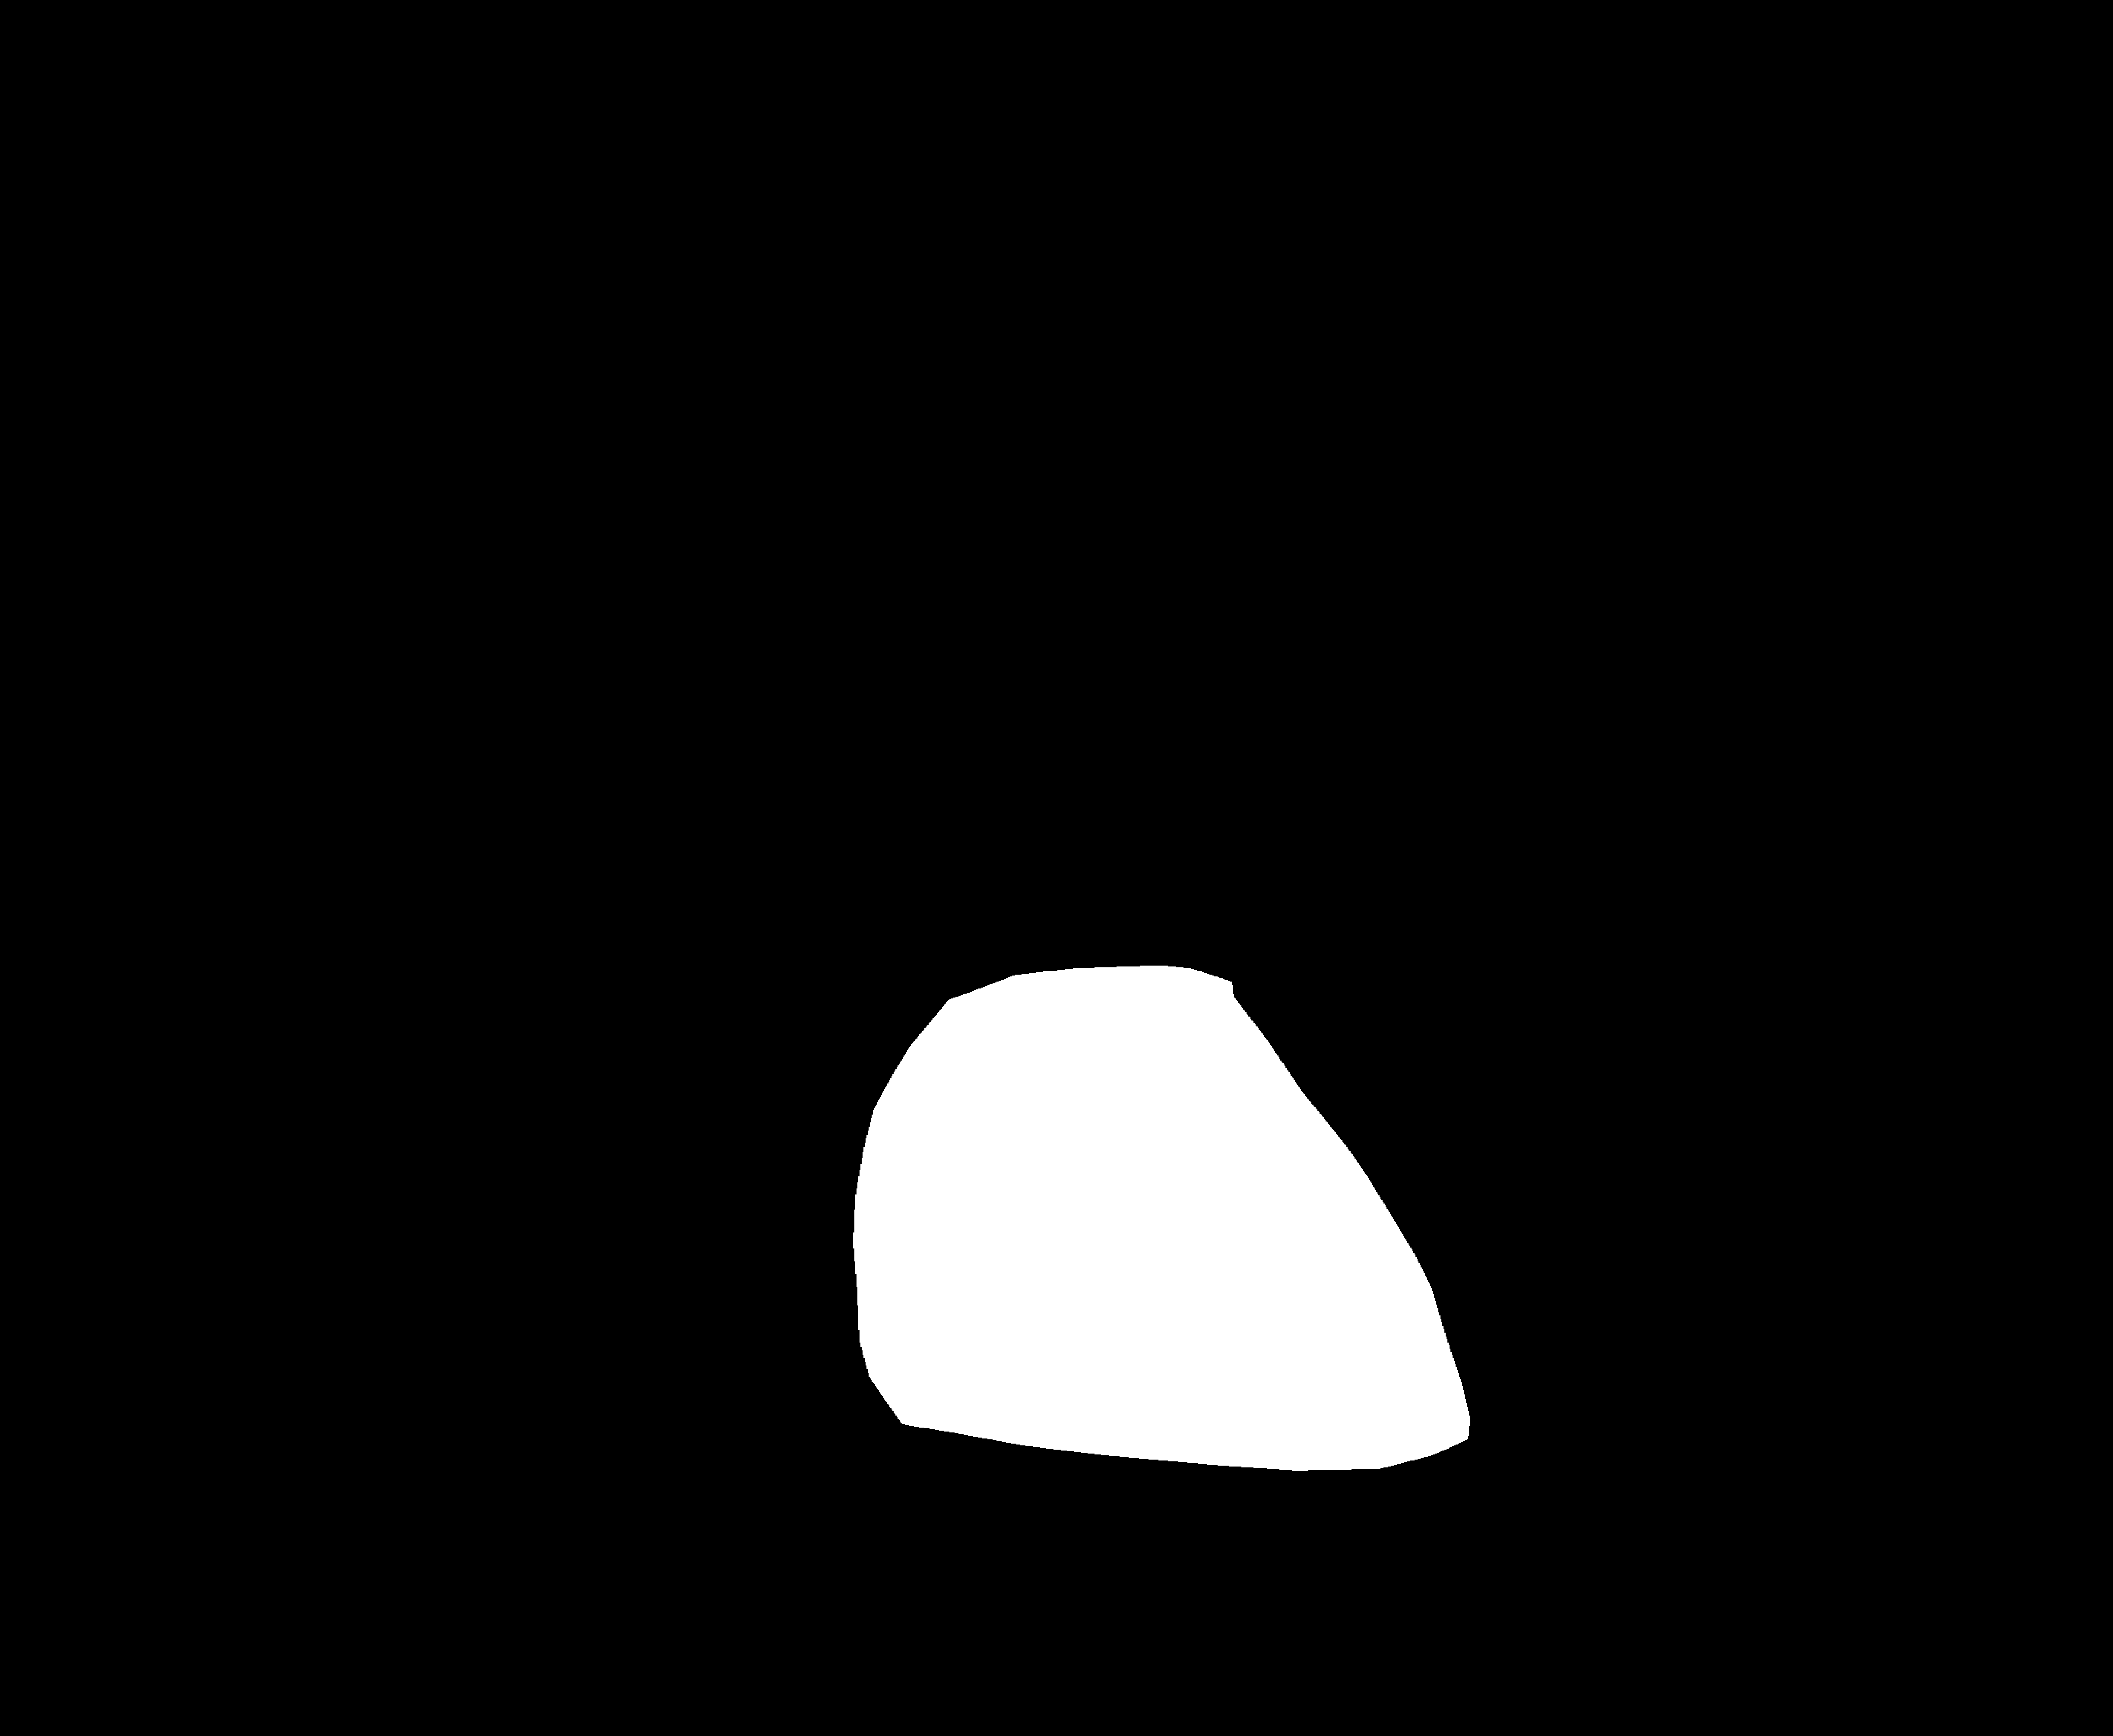heart: (839, 1064, 1465, 1510)
left_lung: (309, 263, 1007, 1629)
right_lung: (1132, 281, 1804, 1638)
